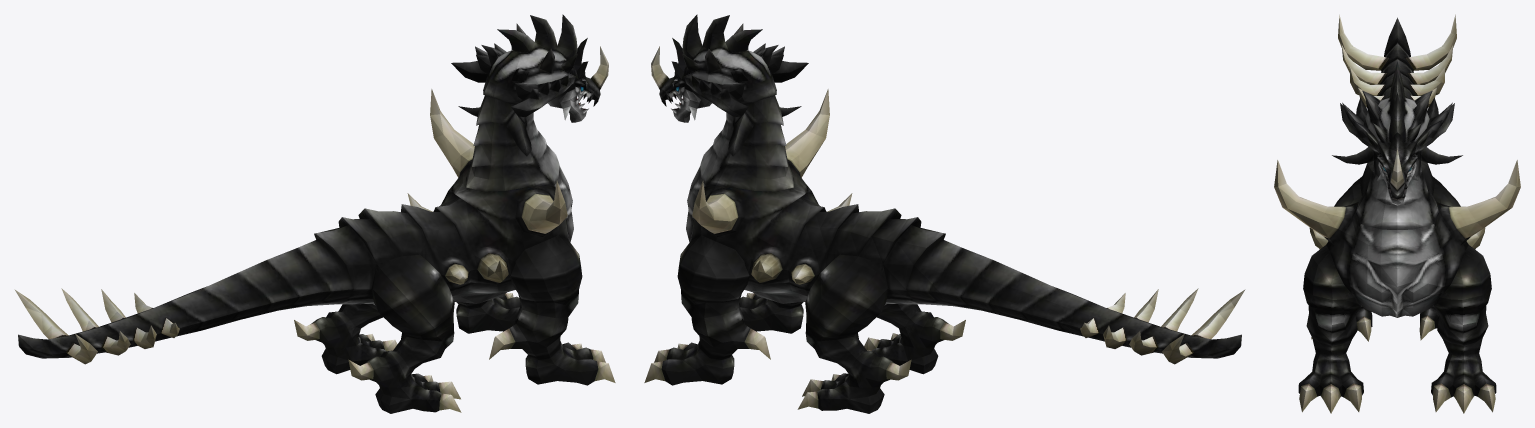
File: dragon.gltf
3 renders of one model, left to right at view 1: azimuth 30°, elevation 25°; view 2: azimuth 150°, elevation 25°; view 3: azimuth 270°, elevation 25°, orthographic. The views are drawn at different scales.
Size of the model in its own units: 2.5 by 1.38 by 0.9453.
1 material, 1 textured.
